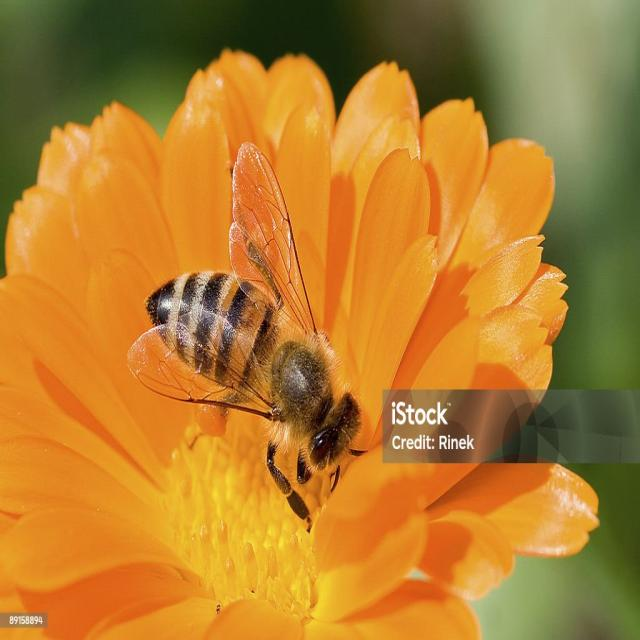bees: (124, 138, 363, 534)
